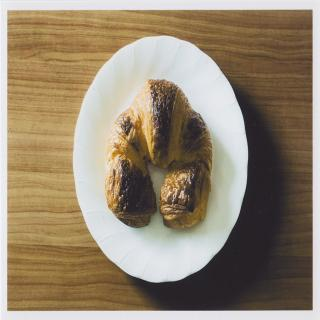Croissant: (104, 79, 214, 229)
